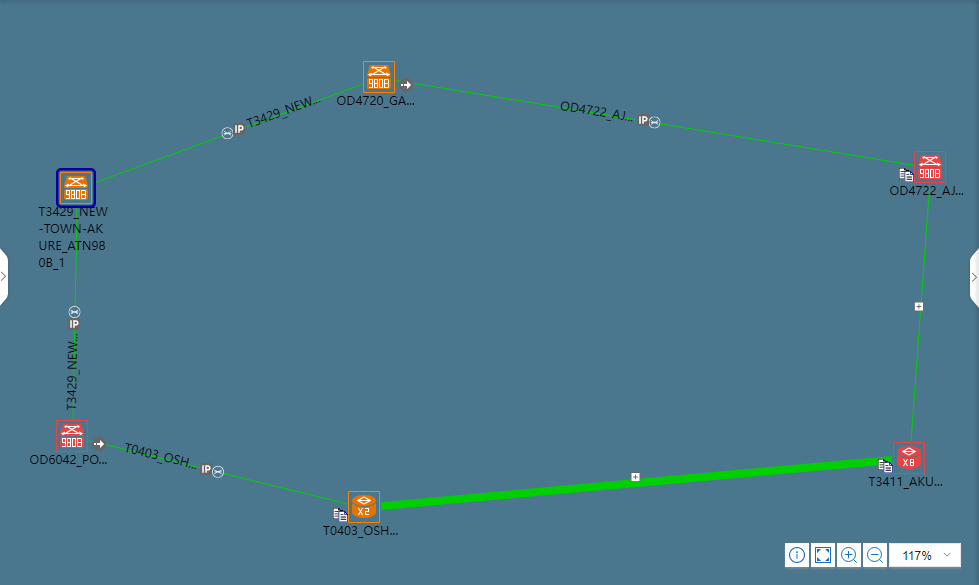ATN_Orange: (64, 173, 93, 202), (364, 63, 392, 91)
ATN_Red: (915, 155, 950, 184), (58, 424, 87, 453)
Link_Green: (401, 75, 907, 172), (382, 455, 895, 514), (95, 81, 359, 182), (89, 436, 350, 505), (909, 185, 932, 435)
Router_Orange: (352, 491, 381, 520)
Router_Red: (896, 442, 925, 478)
